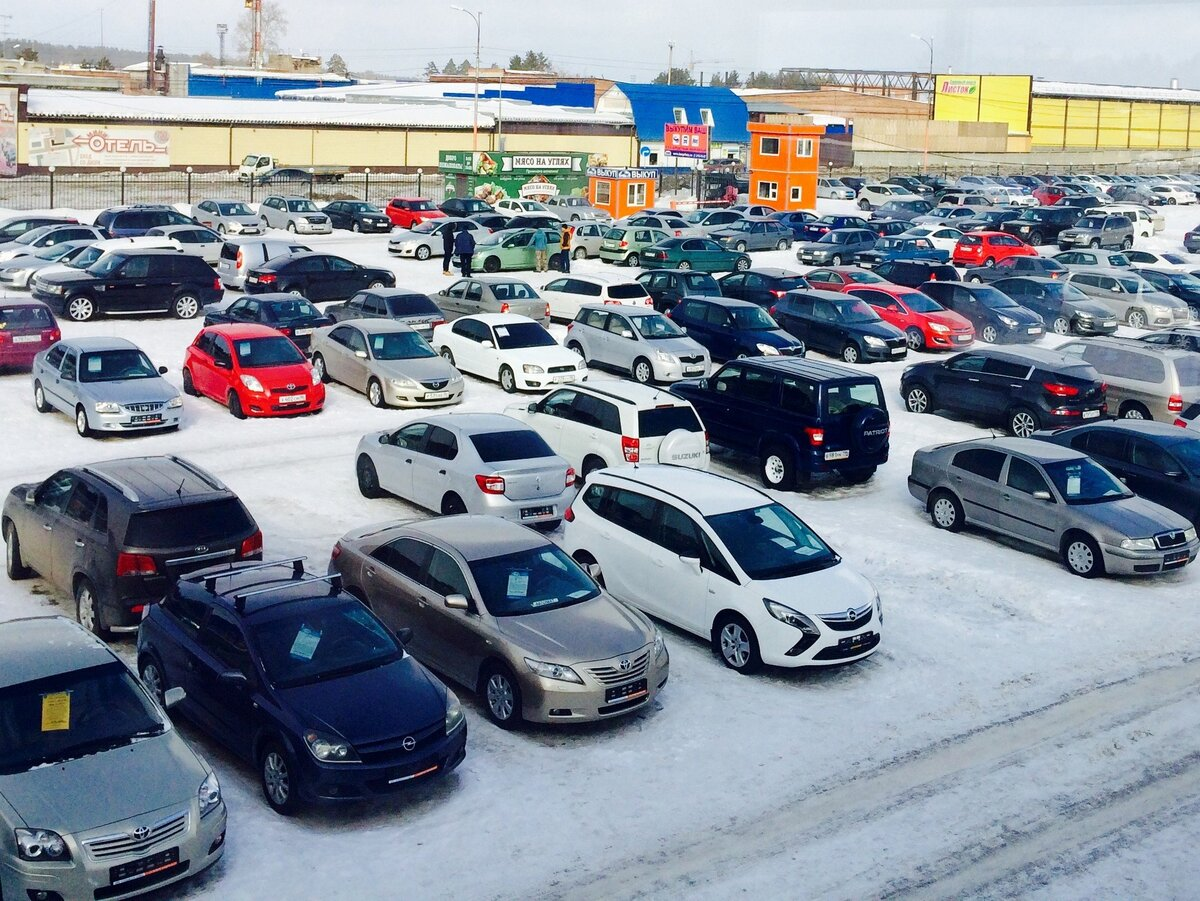Car: (136, 558, 468, 814), (328, 516, 670, 728), (560, 465, 883, 673), (0, 615, 228, 901), (0, 455, 264, 637), (908, 437, 1200, 578), (669, 358, 891, 490), (355, 412, 575, 530), (506, 377, 709, 477), (900, 346, 1106, 437), (1034, 421, 1200, 533), (31, 336, 184, 438), (33, 249, 223, 323), (311, 319, 465, 409), (182, 324, 325, 418), (1055, 338, 1200, 422), (433, 315, 587, 393), (566, 304, 711, 385), (771, 290, 908, 364), (669, 297, 806, 362), (843, 285, 975, 351), (914, 281, 1046, 344), (30, 236, 182, 290), (245, 252, 396, 302), (1065, 270, 1190, 330), (204, 294, 331, 353), (990, 277, 1117, 336), (325, 286, 445, 339), (540, 274, 653, 325), (433, 278, 549, 325), (452, 226, 562, 272), (217, 237, 311, 290), (0, 241, 100, 290), (0, 294, 61, 371), (387, 220, 490, 261), (640, 238, 752, 275), (0, 225, 111, 262), (718, 266, 810, 309), (94, 204, 199, 238), (1134, 268, 1200, 320), (599, 224, 675, 269), (1000, 206, 1085, 246), (854, 235, 950, 268), (964, 254, 1069, 284), (149, 225, 225, 265), (953, 231, 1037, 267), (797, 229, 877, 266), (258, 196, 333, 235), (708, 218, 793, 252), (237, 154, 347, 180), (0, 212, 83, 246), (191, 198, 266, 235), (871, 258, 960, 288), (1058, 215, 1134, 249), (323, 199, 392, 233), (1085, 205, 1156, 238), (1134, 323, 1200, 354), (805, 267, 890, 291), (1118, 248, 1200, 272), (802, 214, 871, 242), (386, 197, 445, 229), (1053, 249, 1133, 272), (567, 221, 614, 260), (902, 225, 963, 254), (857, 184, 919, 212), (1105, 203, 1167, 231), (546, 196, 610, 223), (623, 216, 703, 237), (956, 208, 1022, 233), (686, 208, 745, 235), (870, 198, 934, 222), (494, 198, 560, 221), (1051, 181, 1114, 205), (766, 211, 818, 240), (912, 205, 976, 228), (1106, 183, 1168, 206), (937, 193, 1002, 214), (247, 168, 313, 186), (923, 188, 985, 207), (878, 176, 934, 197), (616, 209, 685, 226), (987, 186, 1041, 207), (1032, 184, 1086, 205), (441, 198, 497, 217), (1149, 184, 1197, 205), (817, 177, 855, 201), (1173, 400, 1200, 433), (863, 219, 912, 237), (987, 175, 1032, 194), (506, 214, 563, 229), (471, 213, 510, 233), (910, 173, 953, 191), (1075, 174, 1114, 193), (1053, 195, 1102, 210), (955, 175, 1003, 189), (728, 204, 775, 218), (840, 177, 871, 197), (1112, 201, 1158, 214), (703, 158, 745, 172), (1169, 184, 1200, 202), (1008, 175, 1046, 189), (1183, 225, 1200, 255), (982, 189, 1011, 206), (1119, 175, 1154, 188), (1157, 174, 1192, 184), (1032, 175, 1064, 185), (999, 205, 1034, 214), (1097, 174, 1129, 183), (1140, 175, 1168, 185), (1174, 174, 1200, 184), (1057, 175, 1082, 181), (1191, 268, 1200, 279)
